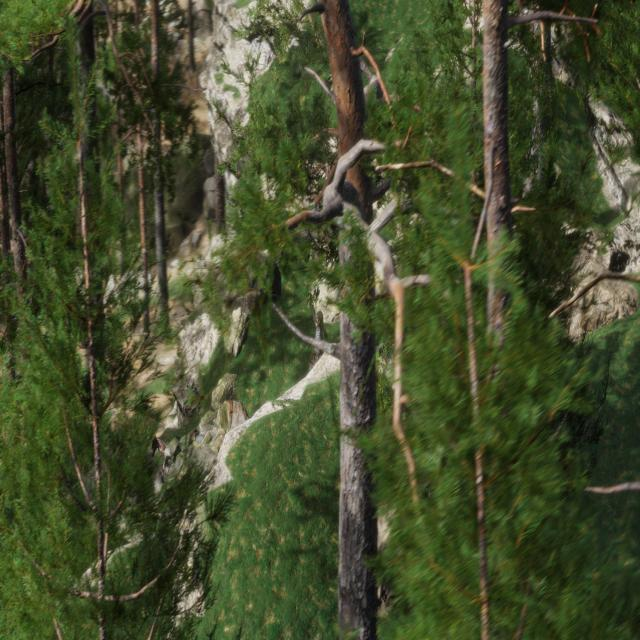Human: (308, 290, 329, 370)
